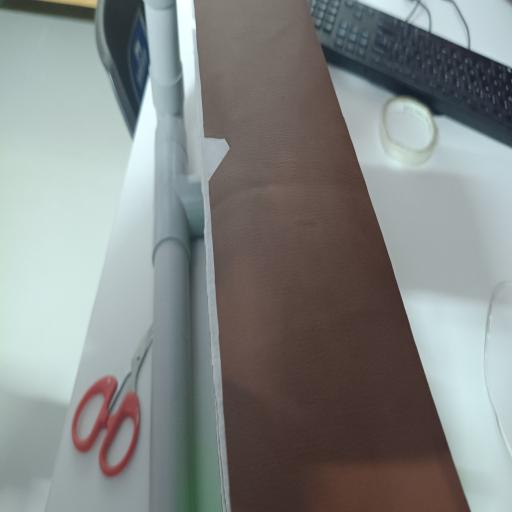belt_tear: (204, 105, 370, 213)
